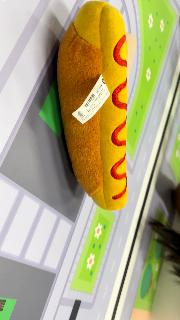hotdog: (57, 1, 130, 211)
